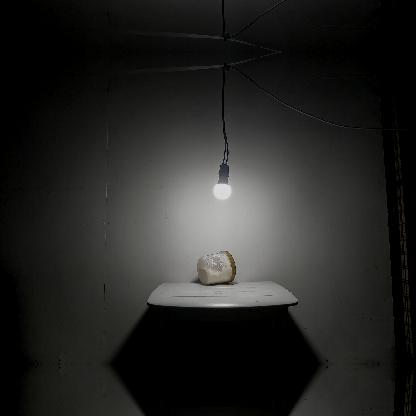Lady-s-Choice: (195, 250, 237, 284)
